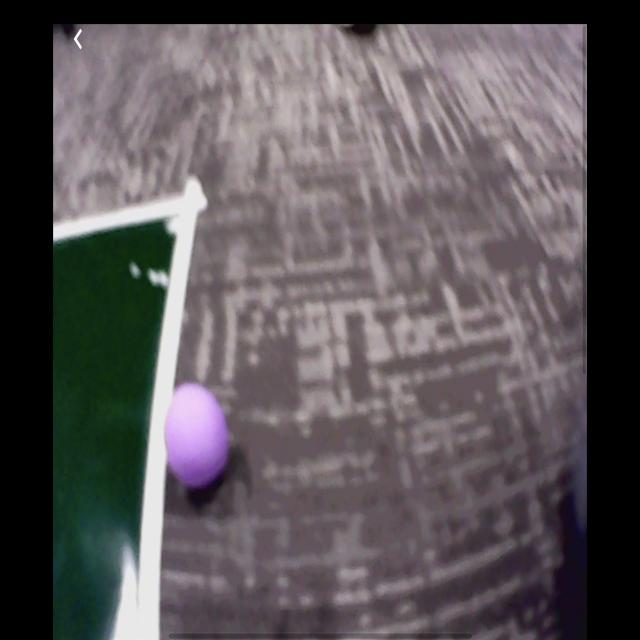ball: (164, 382, 231, 492)
